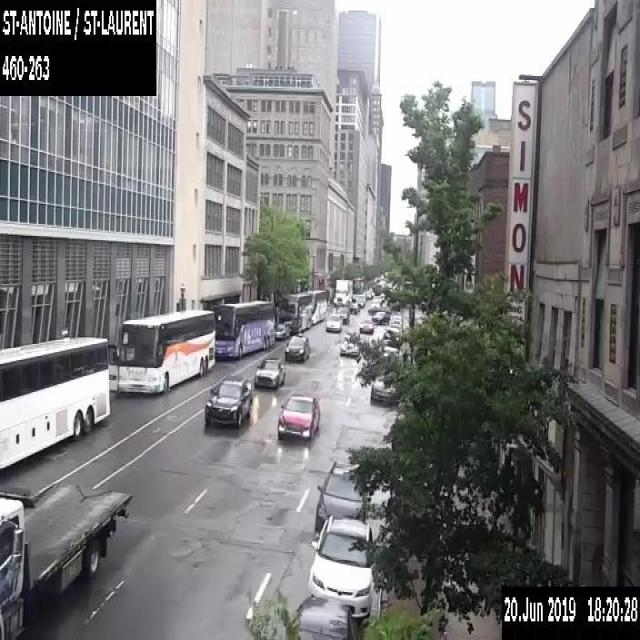bus: (0, 336, 109, 468), (108, 309, 214, 396), (212, 299, 274, 359), (278, 288, 326, 332)
pedestrian: (401, 348, 410, 362)
vehicle: (0, 480, 132, 639), (308, 513, 373, 620), (314, 459, 368, 534), (294, 596, 360, 639), (204, 375, 252, 428), (277, 393, 320, 440), (253, 355, 284, 389), (368, 374, 399, 406), (284, 333, 310, 362), (333, 278, 352, 304), (340, 340, 360, 356), (326, 312, 342, 332), (370, 310, 390, 324), (383, 327, 400, 343), (382, 345, 398, 361), (274, 322, 289, 338), (386, 322, 401, 338), (336, 306, 348, 323), (359, 318, 373, 332), (368, 302, 387, 312), (349, 302, 359, 312), (391, 314, 402, 323), (356, 292, 365, 303), (372, 294, 382, 303), (355, 297, 363, 307), (391, 318, 401, 324)
